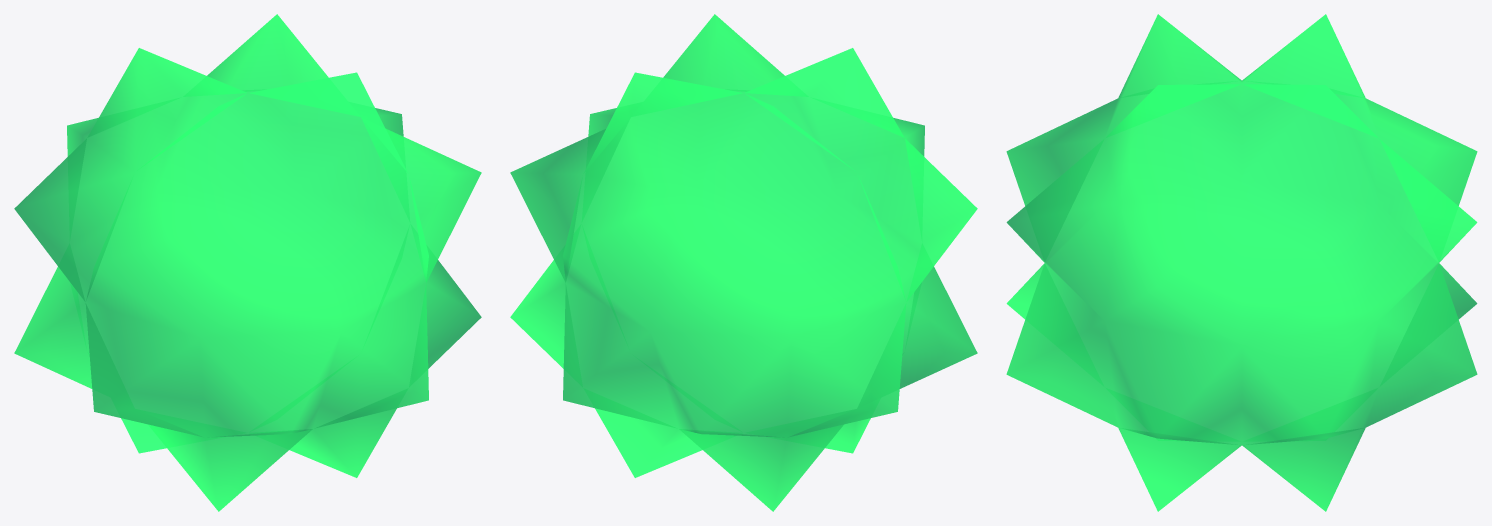
File: Green virus.fbx
The picture shows the model from 3 angles, left to right: view 1: azimuth 30°, elevation 25°; view 2: azimuth 150°, elevation 25°; view 3: azimuth 270°, elevation 25°; orthographic projection. The views are drawn at different scales.
Visible parts, largest first — view 1: Cube.001; view 2: Cube.001; view 3: Cube.001.
Part boxes in pixels (box(x1,y1,x2,y2)): Cube.001: box(14, 14, 481, 511); Cube.001: box(510, 14, 977, 511); Cube.001: box(1006, 14, 1477, 511).
Size of the model in its own units: 381 by 381 by 381.
